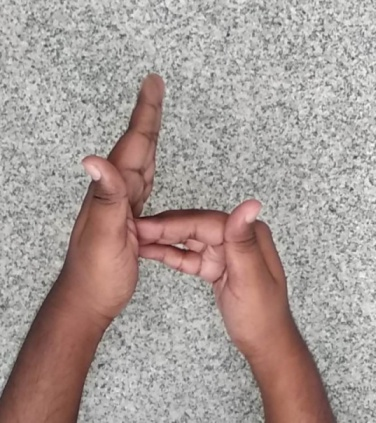ga: (69, 64, 273, 349)
